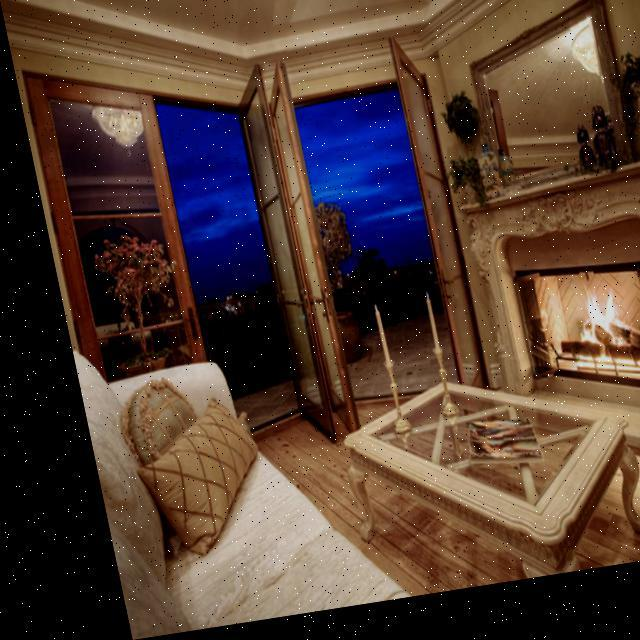Fire: (546, 302, 624, 384)
